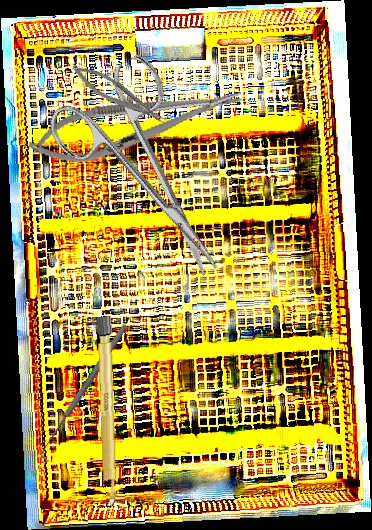Hook Surgical: (34, 321, 135, 464)
Iris Scissors: (39, 50, 259, 306)
Needle Holder: (23, 71, 249, 176), (67, 56, 170, 134)
Scalpel Handle: (96, 316, 118, 507)
